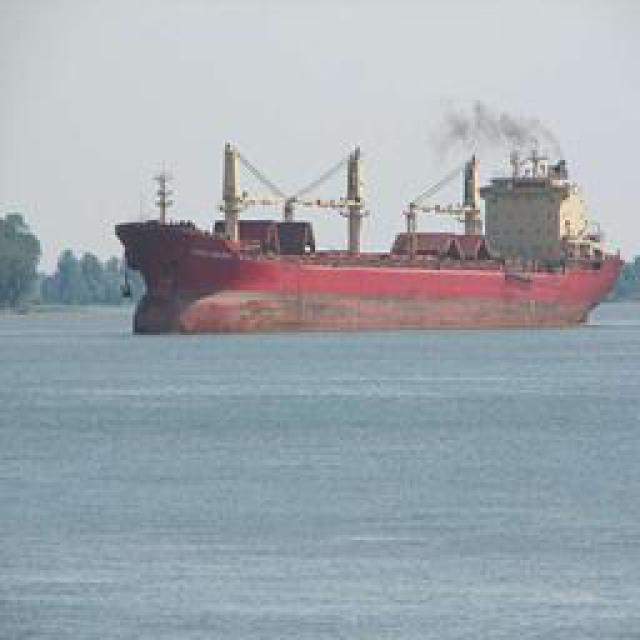Ship: (129, 127, 629, 337)
